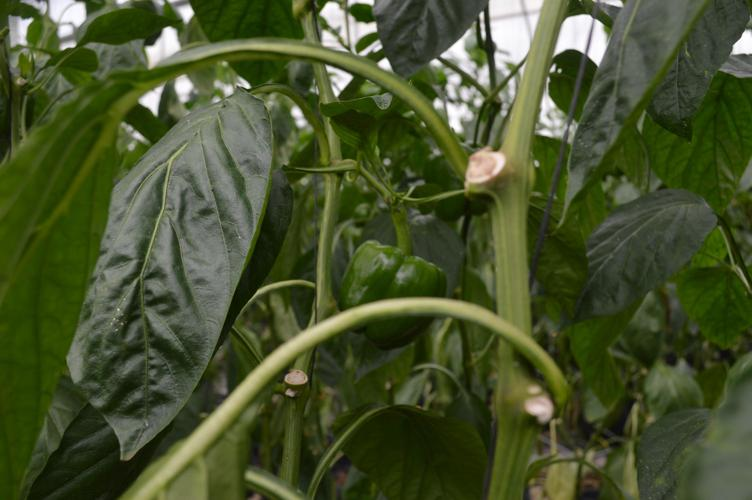BellPepper: (351, 232, 455, 355)
